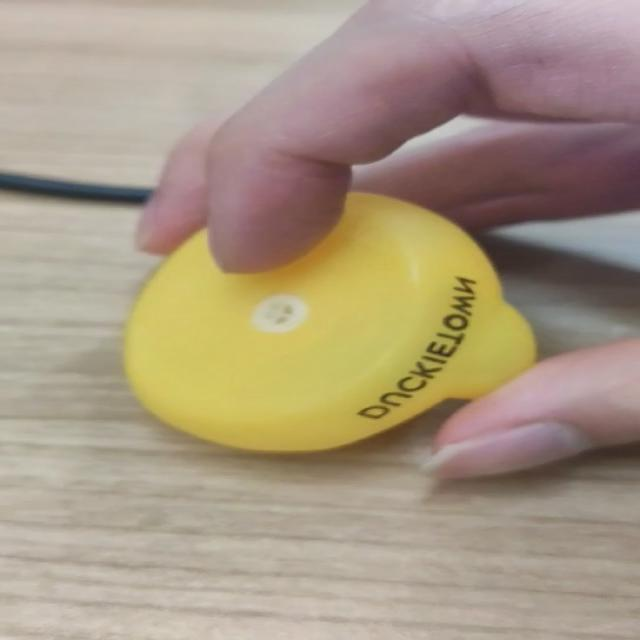rubber-duck: (124, 192, 534, 450)
